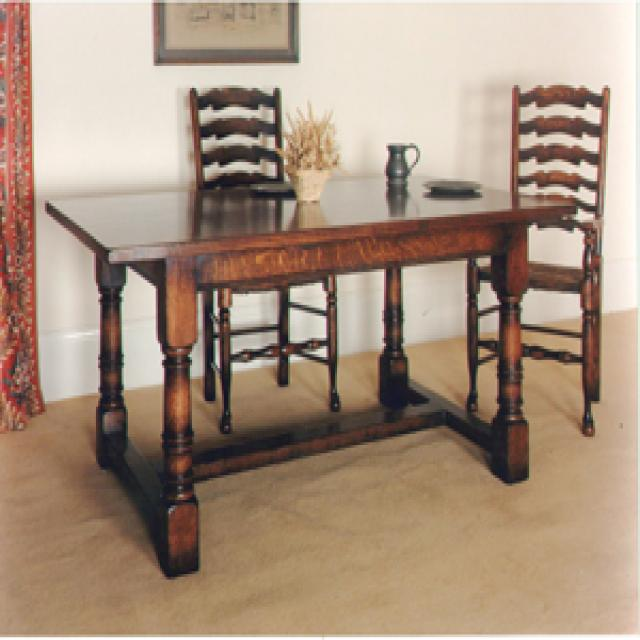table: (44, 166, 578, 581)
